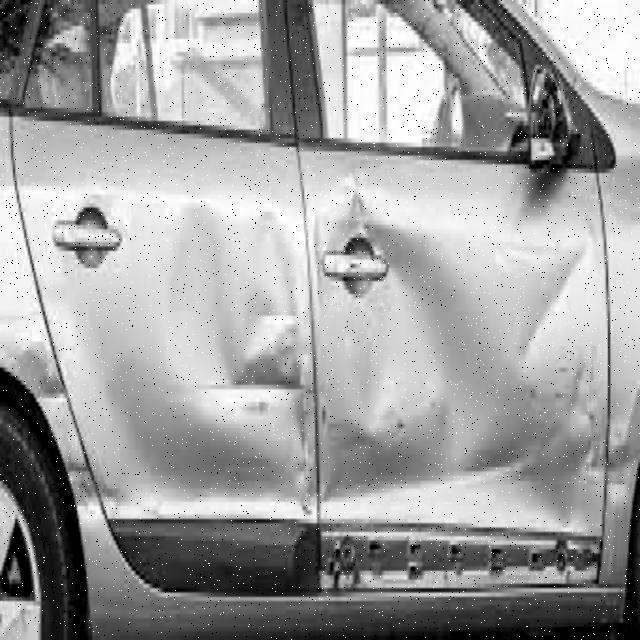doorouter-dent: (318, 144, 607, 537), (43, 139, 317, 532)
